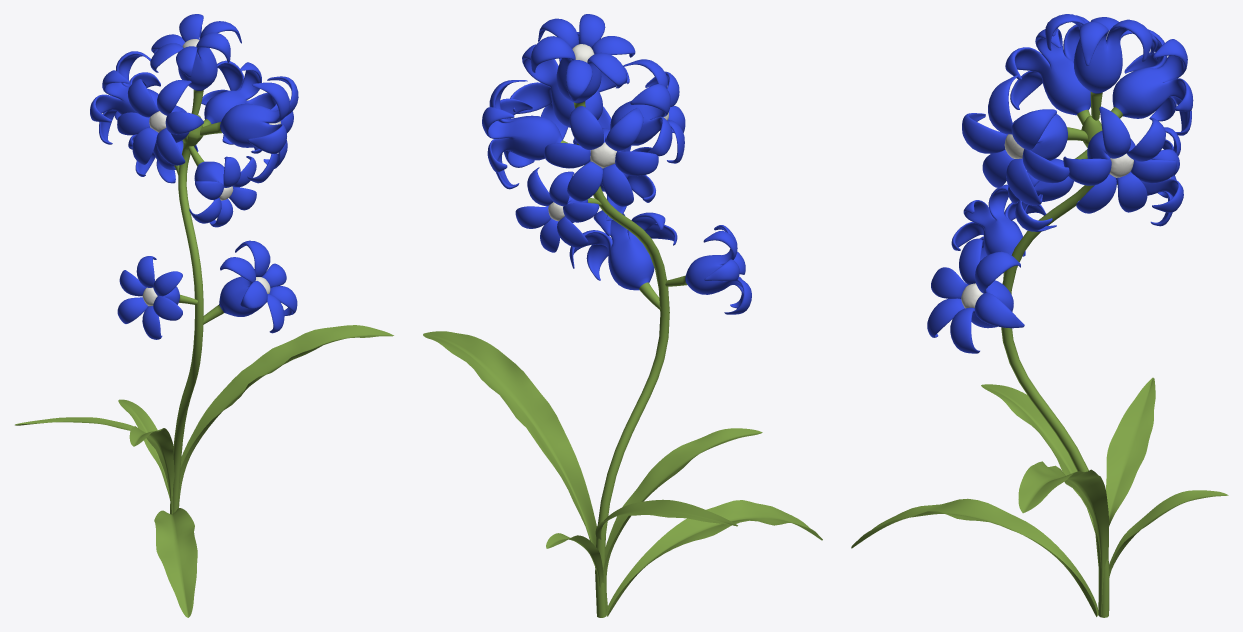
File: object_EN-plants-bluebell_007.glb
3 renders of one model, left to right at view 1: azimuth 30°, elevation 25°; view 2: azimuth 150°, elevation 25°; view 3: azimuth 270°, elevation 25°, orthographic. The views are drawn at different scales.
Visible parts, largest first — view 1: GEO-plants-bluebell-petals.005, GEO-plants-bluebell-petals.001, GEO-plants-bluebell-petals.008, GEO-leaf.bluebell.003, GEO-plants-bluebell-petals.003, GEO-plants-bluebell-stem, GEO-plants-bluebell-petals.006, GEO-plants-bluebell-petals.007, GEO-leaf.bluebell.002, GEO-plants-bluebell-petals.009, GEO-plants-bluebell-petals.004, GEO-leaf.bluebell.001 (+3 smaller); view 2: GEO-leaf.bluebell.003, GEO-plants-bluebell-petals.004, GEO-plants-bluebell-petals.003, GEO-plants-bluebell-petals.008, GEO-plants-bluebell-stem, GEO-plants-bluebell-petals.009, GEO-plants-bluebell-petals.002, GEO-plants-bluebell-petals.005, GEO-leaf.bluebell.002, GEO-plants-bluebell-petals.001, GEO-plants-bluebell-petals.006, GEO-leaf.bluebell.001 (+3 smaller); view 3: GEO-plants-bluebell-petals.001, GEO-plants-bluebell-petals.009, GEO-plants-bluebell-petals.008, GEO-plants-bluebell-petals.004, GEO-plants-bluebell-petals.005, GEO-plants-bluebell-petals.003, GEO-plants-bluebell-stem, GEO-leaf.bluebell.004, GEO-leaf.bluebell.003, GEO-leaf.bluebell.002, GEO-plants-bluebell-petals.006, GEO-leaf.bluebell.001 (+3 smaller).
Part boxes in pixels (x1=…): GEO-plants-bluebell-petals.005: x1=117, y1=79, x2=203, y2=165; GEO-plants-bluebell-petals.001: x1=200, y1=76, x2=298, y2=183; GEO-plants-bluebell-petals.008: x1=203, y1=240, x2=297, y2=333; GEO-leaf.bluebell.003: x1=178, y1=325, x2=393, y2=507; GEO-plants-bluebell-petals.003: x1=150, y1=14, x2=241, y2=114; GEO-plants-bluebell-stem: x1=170, y1=115, x2=203, y2=514; GEO-plants-bluebell-petals.006: x1=117, y1=256, x2=197, y2=339; GEO-plants-bluebell-petals.007: x1=188, y1=146, x2=256, y2=227; GEO-leaf.bluebell.002: x1=154, y1=508, x2=197, y2=617; GEO-plants-bluebell-petals.009: x1=201, y1=60, x2=278, y2=153; GEO-plants-bluebell-petals.004: x1=90, y1=51, x2=160, y2=144; GEO-leaf.bluebell.001: x1=129, y1=426, x2=174, y2=514; GEO-leaf.bluebell.003: x1=423, y1=331, x2=596, y2=567; GEO-plants-bluebell-petals.004: x1=544, y1=106, x2=658, y2=206; GEO-plants-bluebell-petals.003: x1=531, y1=14, x2=635, y2=108; GEO-plants-bluebell-petals.008: x1=569, y1=210, x2=677, y2=310; GEO-plants-bluebell-stem: x1=577, y1=143, x2=669, y2=617; GEO-plants-bluebell-petals.009: x1=482, y1=80, x2=567, y2=189; GEO-plants-bluebell-petals.002: x1=515, y1=167, x2=601, y2=252; GEO-plants-bluebell-petals.005: x1=610, y1=59, x2=685, y2=163; GEO-leaf.bluebell.002: x1=606, y1=500, x2=822, y2=616; GEO-plants-bluebell-petals.001: x1=510, y1=32, x2=629, y2=139; GEO-plants-bluebell-petals.006: x1=665, y1=225, x2=751, y2=314; GEO-leaf.bluebell.001: x1=603, y1=428, x2=762, y2=613; GEO-plants-bluebell-petals.001: x1=962, y1=75, x2=1087, y2=205; GEO-plants-bluebell-petals.009: x1=1063, y1=106, x2=1176, y2=213; GEO-plants-bluebell-petals.008: x1=927, y1=238, x2=1024, y2=353; GEO-plants-bluebell-petals.004: x1=1111, y1=29, x2=1193, y2=135; GEO-plants-bluebell-petals.005: x1=1005, y1=24, x2=1090, y2=124; GEO-plants-bluebell-petals.003: x1=1045, y1=14, x2=1157, y2=120; GEO-plants-bluebell-stem: x1=1001, y1=115, x2=1109, y2=617; GEO-leaf.bluebell.004: x1=1106, y1=377, x2=1155, y2=526; GEO-leaf.bluebell.003: x1=1018, y1=461, x2=1108, y2=615; GEO-leaf.bluebell.002: x1=851, y1=498, x2=1098, y2=616; GEO-plants-bluebell-petals.006: x1=951, y1=184, x2=1046, y2=278; GEO-leaf.bluebell.001: x1=981, y1=384, x2=1095, y2=532.
Size of the model in its own units: 0.2664 by 0.3941 by 0.218.
